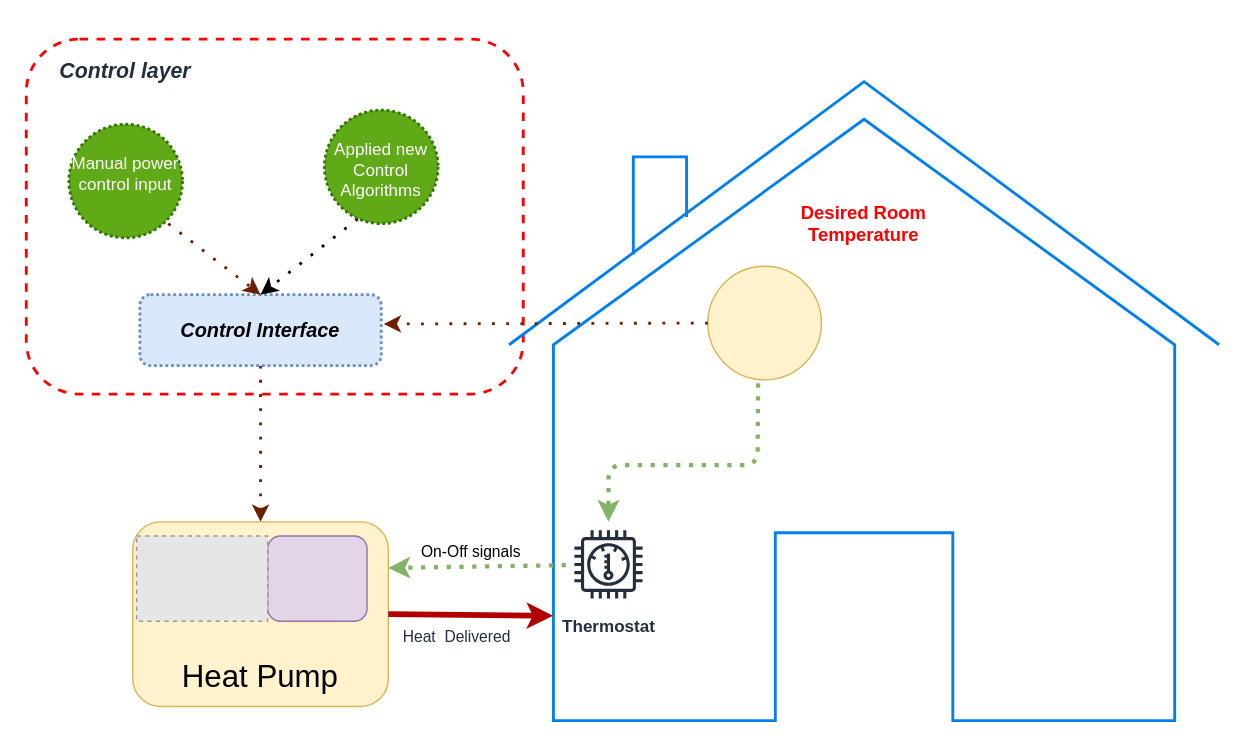
This 1244x747 diagram has some shape labels left out. Grey dashed boxes stand in for pictures. The shapes that lost their labels are listed below. From the top down, each one's box as (x1, y1, x2, y2) in pixels, then its label:
(706, 265, 821, 380): 20-C
(266, 535, 367, 621): HP Controller
